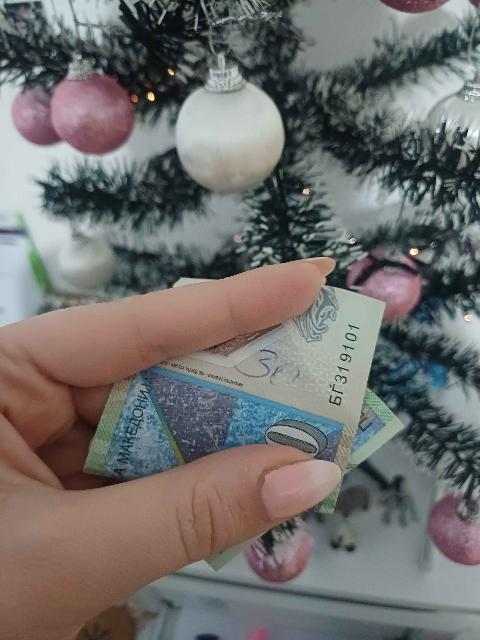50_note: (85, 291, 394, 483)
